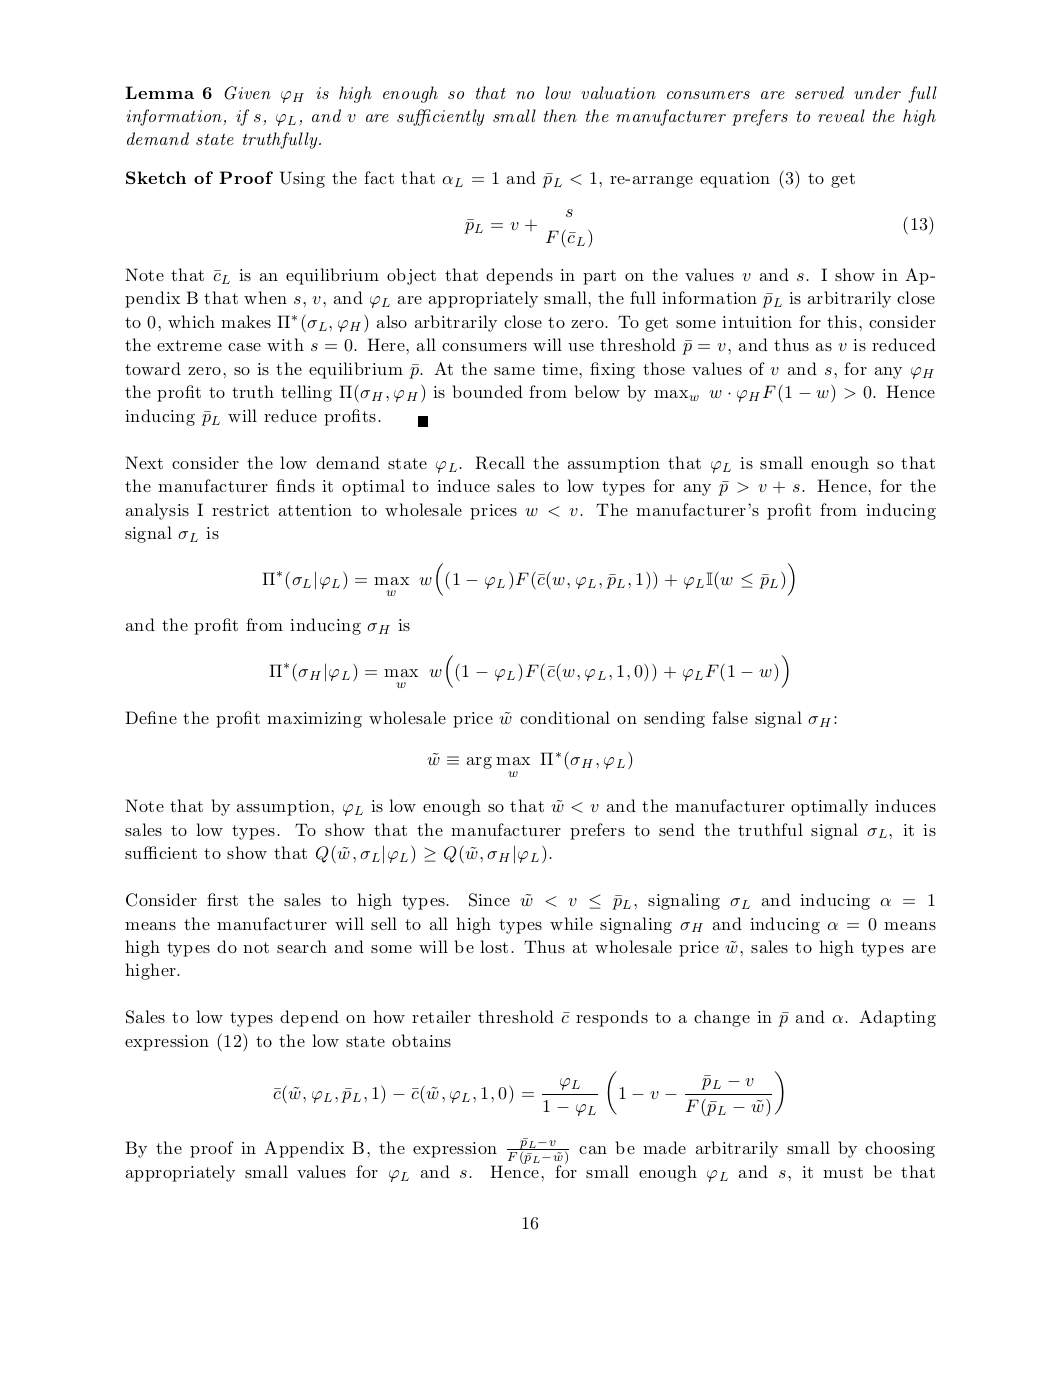formula: (273, 1070, 783, 1117), (262, 562, 794, 597), (464, 208, 933, 249), (269, 654, 788, 689), (427, 751, 632, 777)
